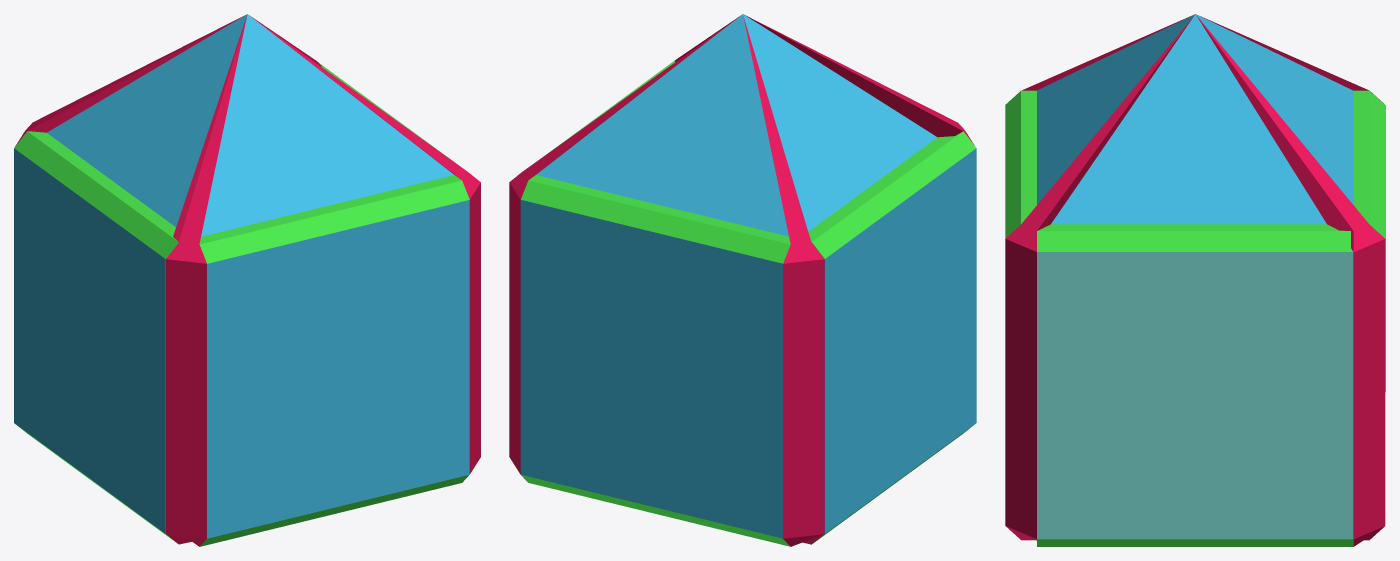
The model's file is Patrol2.fbx.
The picture shows the model from 3 angles, left to right: view 1: azimuth 30°, elevation 25°; view 2: azimuth 150°, elevation 25°; view 3: azimuth 270°, elevation 25°; orthographic projection. The views are drawn at different scales.
Parts seen in each view (by area): view 1: FaceB.003, FaceB.004, FaceB.002, FaceB.009, FaceB.010, FaceB.006, FaceB.008, FaceB.011; view 2: FaceB, FaceB.004, FaceB.002, FaceB.008, FaceB.010, FaceB.007, FaceB.009, FaceB.011; view 3: FaceB.001, FaceB.004, FaceB.010, FaceB.007, FaceB.006, FaceB.011, FaceB.008, FaceB.009.
Boxes of the visible parts, x1,y1,x2,y2 form: FaceB.003: (207,200,469,538); FaceB.004: (47,14,453,236); FaceB.002: (14,148,165,533); FaceB.009: (166,15,247,546); FaceB.010: (14,62,469,263); FaceB.006: (249,15,480,474); FaceB.008: (15,15,244,146); FaceB.011: (15,424,468,546); FaceB: (520,200,782,538); FaceB.004: (536,14,937,236); FaceB.002: (824,148,976,533); FaceB.008: (743,16,824,546); FaceB.010: (521,61,976,263); FaceB.007: (509,16,739,479); FaceB.009: (745,15,973,144); FaceB.011: (521,425,973,546); FaceB.001: (1037,252,1353,539); FaceB.004: (1037,14,1353,224); FaceB.010: (1005,90,1385,251); FaceB.007: (1196,15,1385,546); FaceB.006: (1005,16,1193,540); FaceB.011: (1031,539,1353,546); FaceB.008: (1200,16,1385,391); FaceB.009: (1022,16,1190,90).
Bounding box in the file's own units: 240 × 320 × 240.
